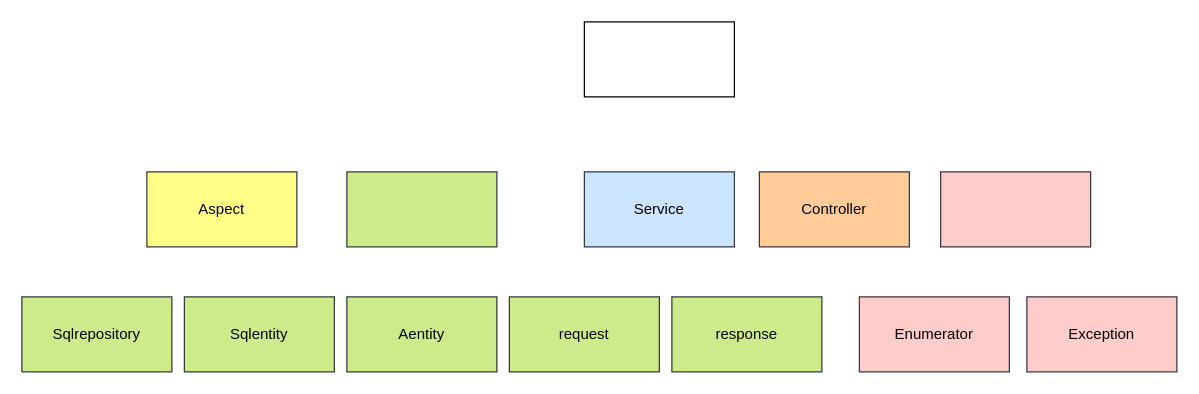
Image size: 1199x394. Some labels were removed from this diagram. Each missing label, with the centre of its shape:
Common: pixel 1015 209
Dataobject: pixel 421 209
root: pixel 658 59
